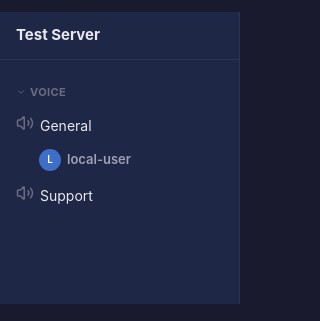
ChannelSidebar voice media presence › opens a safe self participant menu without moderation permissions
Right-click the button with aria-label "local-user in voice" at (85, 160), box [39,148,131,170]
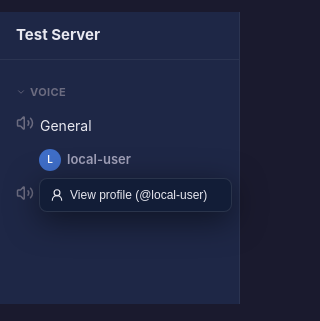
Expected: the element named "Voice actions for local-user" is shown, [39,178,232,212]
Expected: the button "View profile (@local-user)" is shown, [40,182,231,208]
